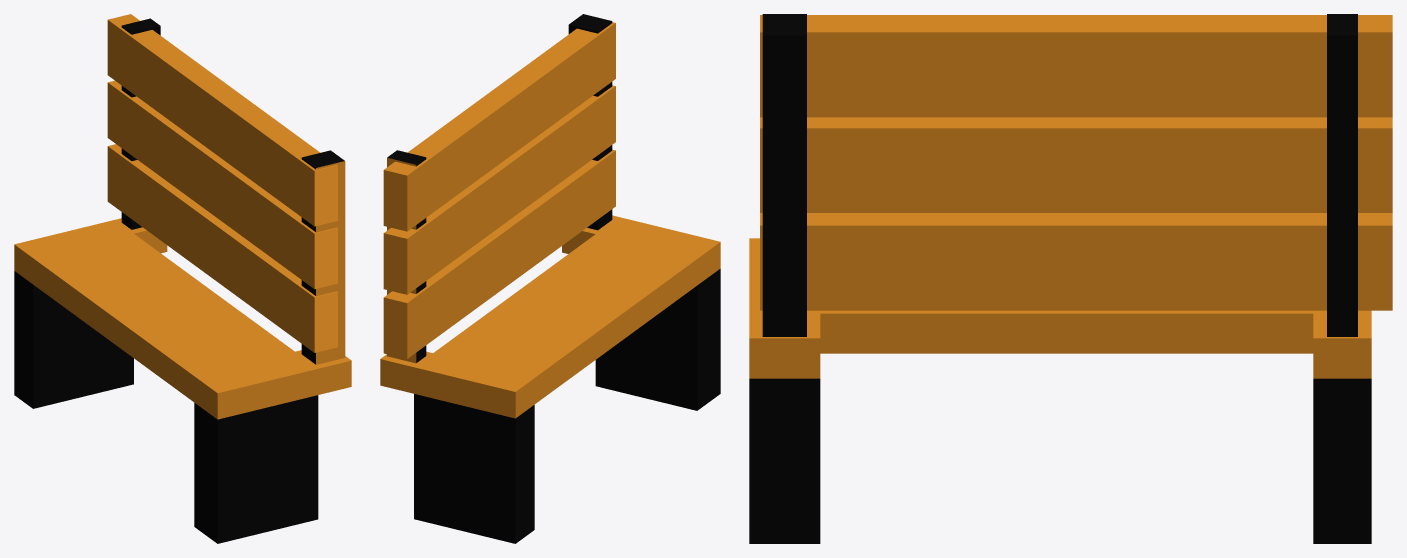
Rendered from Bench.fbx.
3 renders of one model, left to right at view 1: azimuth 30°, elevation 25°; view 2: azimuth 150°, elevation 25°; view 3: azimuth 270°, elevation 25°, orthographic. The views are drawn at different scales.
Parts seen in each view (by area): view 1: Cube.001; view 2: Cube.001; view 3: Cube.001.
Boxes of the visible parts, box(x1,y1,x2,y2) form: Cube.001: box(14, 14, 351, 543); Cube.001: box(380, 14, 720, 543); Cube.001: box(749, 14, 1392, 543).
Size of the model in its own units: 134 by 333 by 365.
